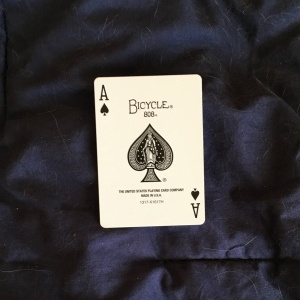card: (91, 71, 209, 229)
